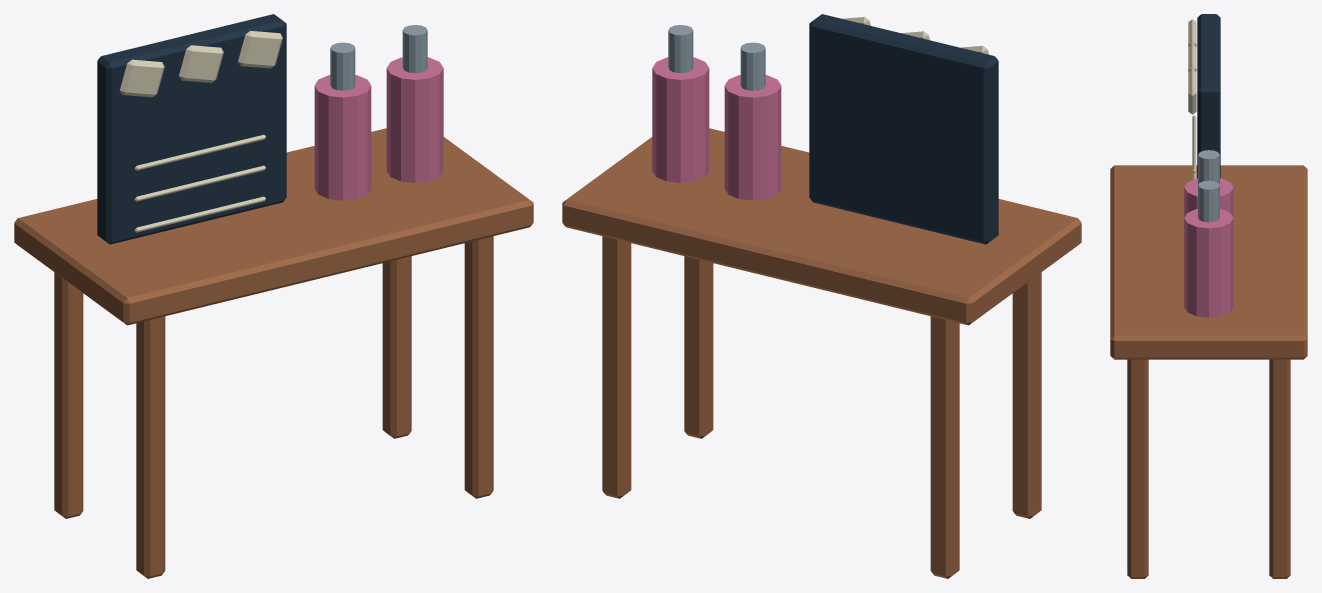
The model's file is clapper.glb.
3 views of the same model, side by side, from view 1: azimuth 30°, elevation 25°; view 2: azimuth 150°, elevation 25°; view 3: azimuth 270°, elevation 25° (orthographic). The views are drawn at different scales.
Visible parts, largest first — view 1: Base, Target0, Target1, Target2; view 2: Base, Target0, Target1, Target2; view 3: Base, Target2, Target0, Target1.
Boxes of the visible parts, left/top/right/bottom form: Base: left=14, top=128, right=533, bottom=578; Target0: left=97, top=14, right=286, bottom=244; Target1: left=314, top=42, right=371, bottom=200; Target2: left=386, top=25, right=443, bottom=182; Base: left=562, top=128, right=1081, bottom=578; Target0: left=809, top=14, right=998, bottom=244; Target1: left=724, top=42, right=781, bottom=200; Target2: left=652, top=25, right=709, bottom=182; Base: left=1110, top=165, right=1307, bottom=578; Target2: left=1184, top=180, right=1233, bottom=317; Target0: left=1188, top=14, right=1220, bottom=179; Target1: left=1184, top=150, right=1233, bottom=217.
Bounding box in the file's own units: 1.25 × 1.42 × 0.6.
